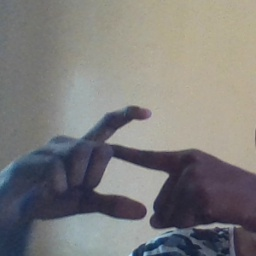E: (59, 90, 183, 223)
